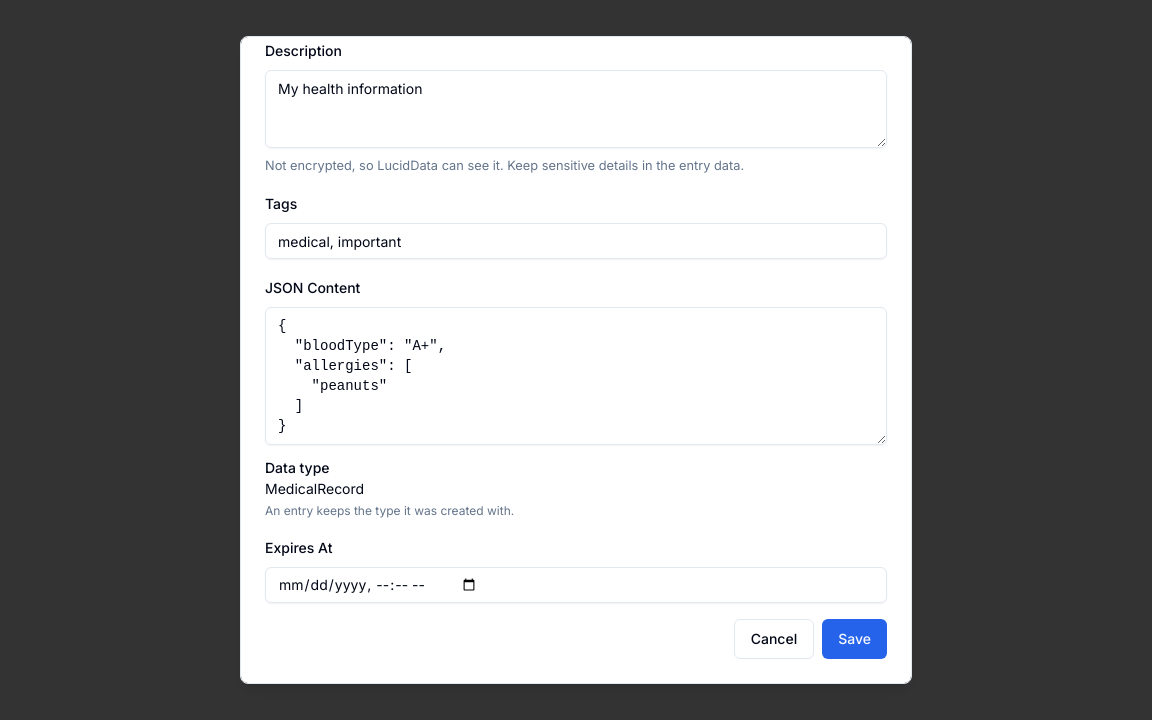
Test: VaultEditDialog › Validation › validates data field is required
(page scrolled)
Clear the text box named "data" at (576, 376), box [265, 307, 887, 445]
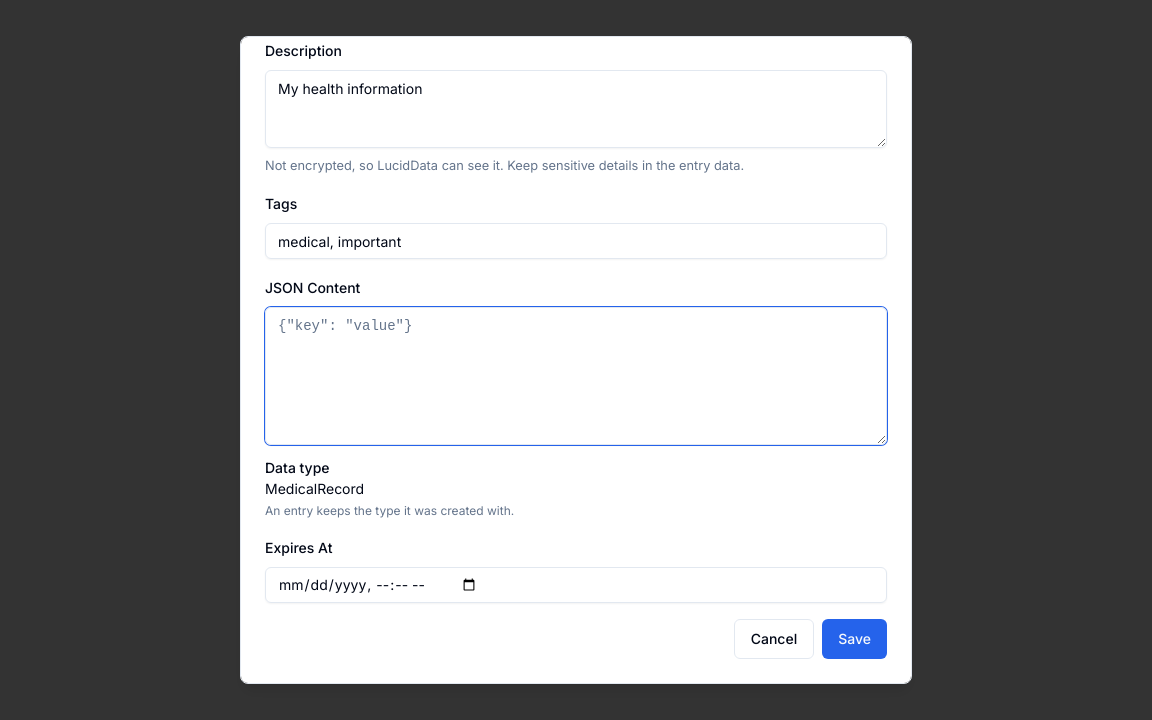
Click the button "Save" at (855, 639), box [822, 619, 887, 659]
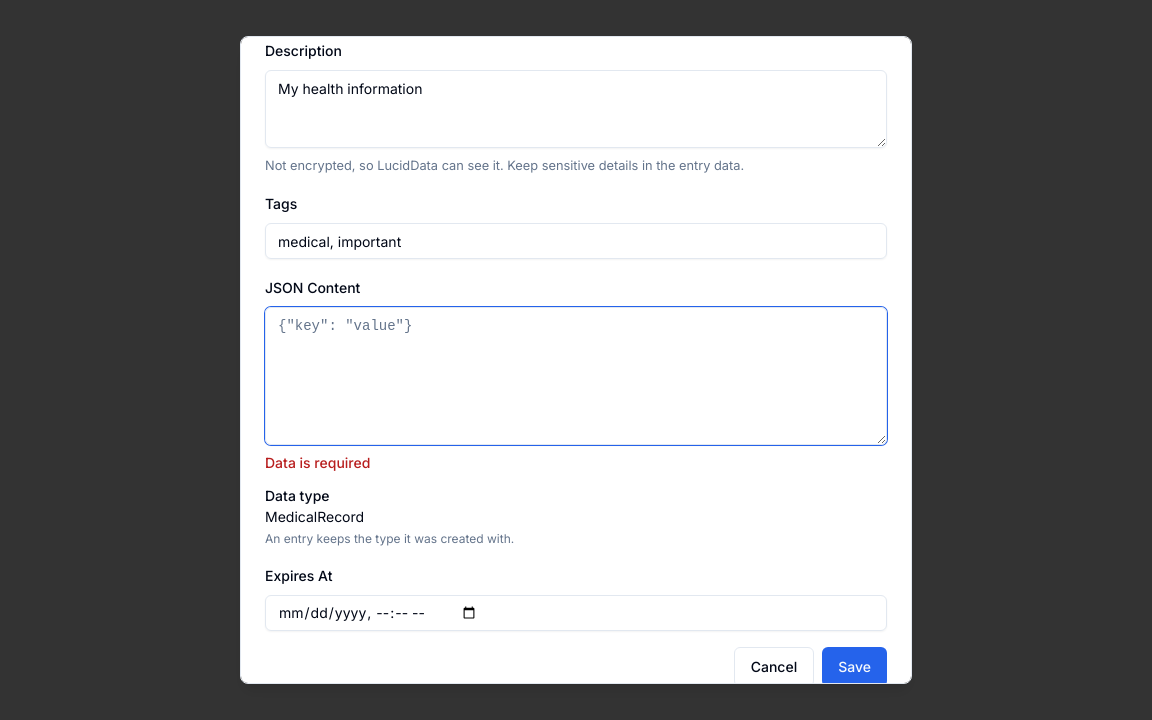
Result: the text "Data is required" is shown at [265, 454, 370, 471]
